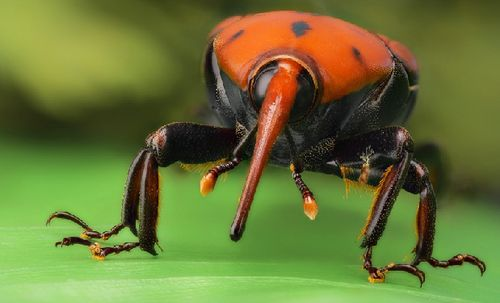Curculionidae: (44, 9, 486, 289)
